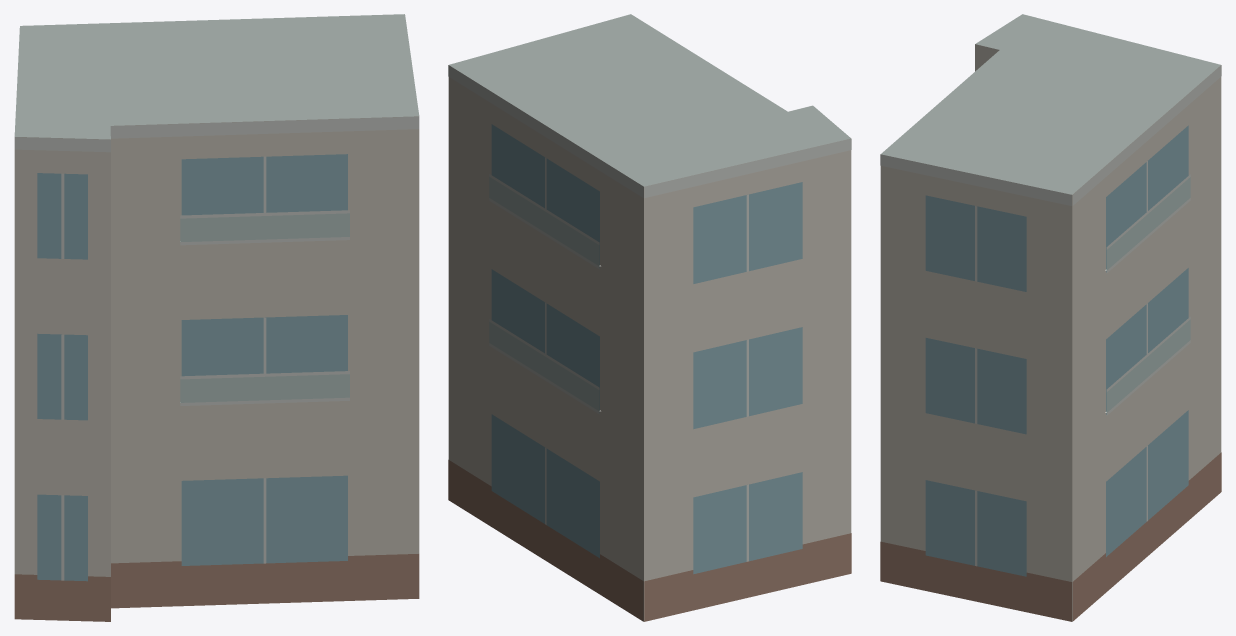
Rendered from survey-upis-32460058.glb.
3 views of the same model, side by side, from view 1: azimuth 30°, elevation 25°; view 2: azimuth 150°, elevation 25°; view 3: azimuth 270°, elevation 25° (orthographic). The views are drawn at different scales.
Parts seen in each view (by area): view 1: survey-upis-32460058.tmp; view 2: survey-upis-32460058.tmp; view 3: survey-upis-32460058.tmp.
Part boxes in pixels (<box>): survey-upis-32460058.tmp: <box>14,14,419,621</box>; survey-upis-32460058.tmp: <box>448,14,851,621</box>; survey-upis-32460058.tmp: <box>880,14,1221,621</box>.
Size of the model in its own units: 8.32 by 9.15 by 6.63.
